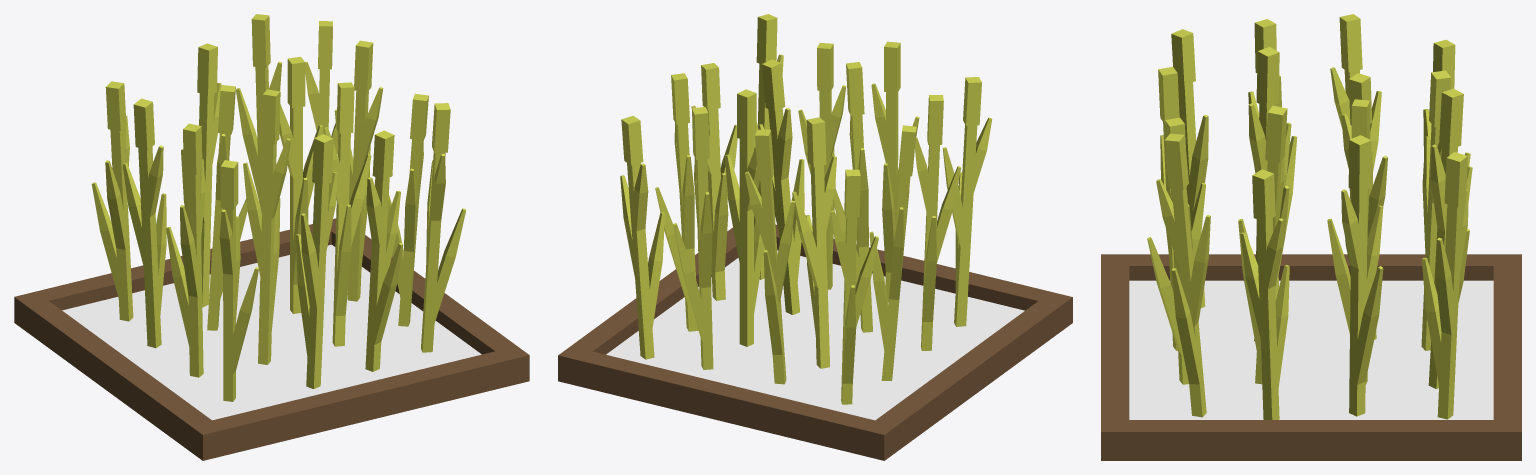
3 renders of one model, left to right at view 1: azimuth 30°, elevation 25°; view 2: azimuth 150°, elevation 25°; view 3: azimuth 270°, elevation 25°, orthographic. The views are drawn at different scales.
Visible parts, largest first — view 1: wheat4; view 2: wheat4; view 3: wheat4.
Part boxes in pixels (x1,y1,x2,y2): wheat4: (14, 14, 529, 460); wheat4: (558, 14, 1072, 460); wheat4: (1101, 14, 1521, 460).
Bounding box in the file's own units: 440 × 358 × 440.
